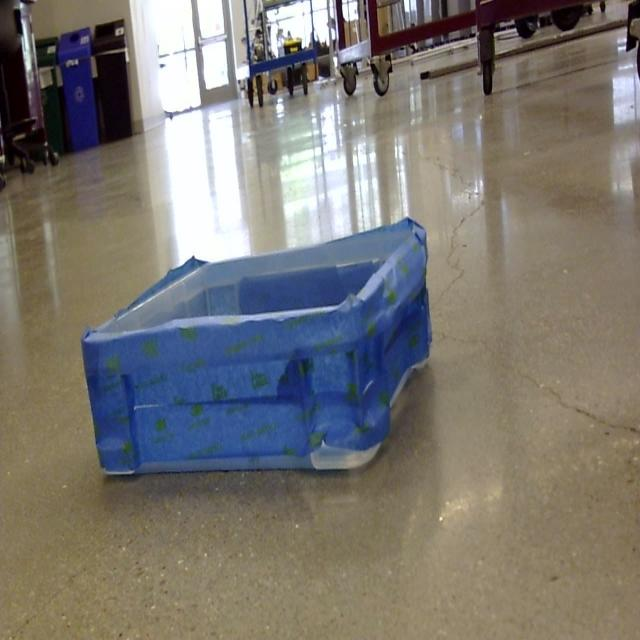bucket: (80, 220, 432, 482)
